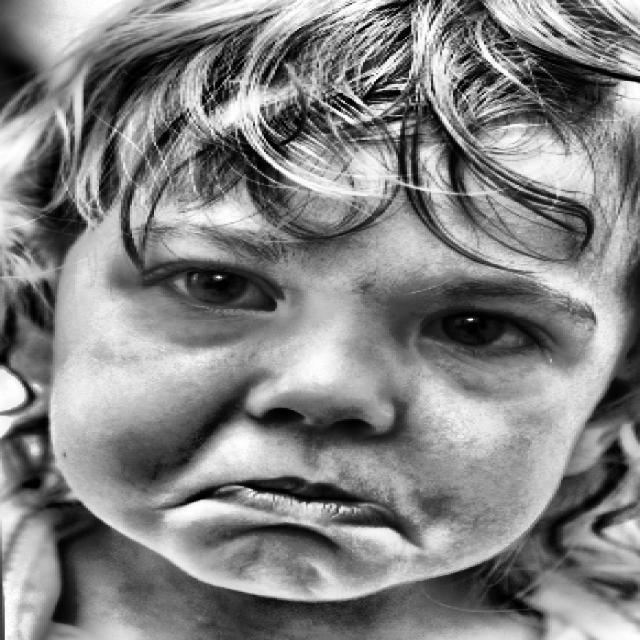sad: (56, 20, 630, 601)
